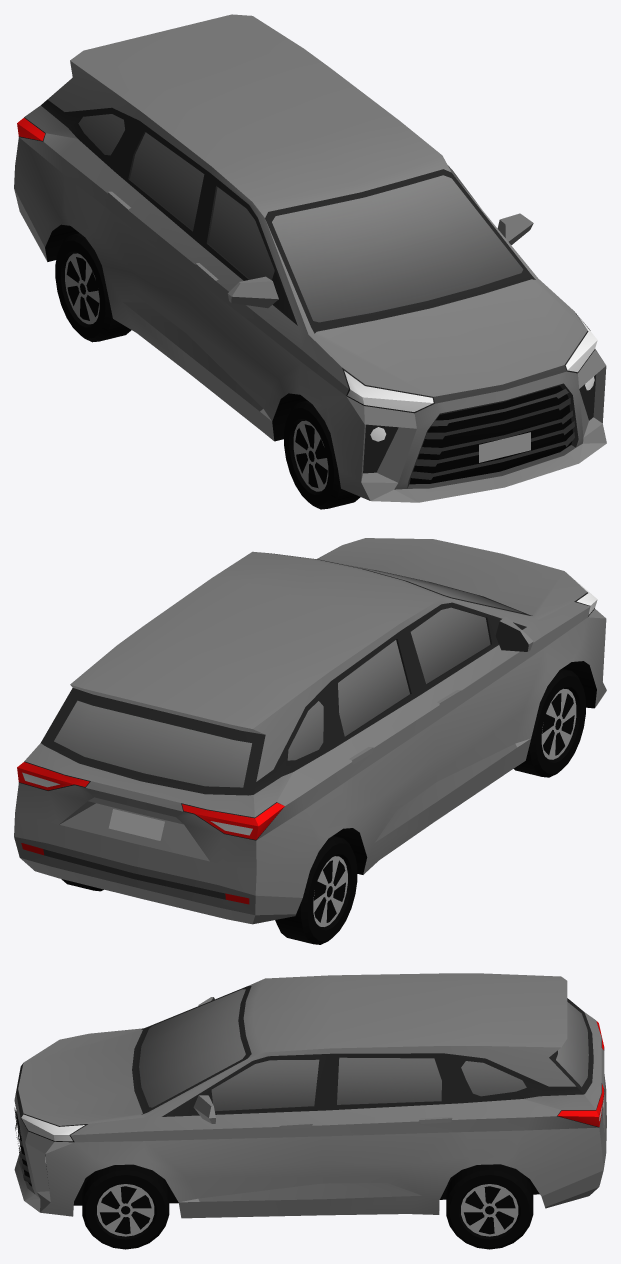
The model's file is lmpv1.glb.
The picture shows the model from 3 angles, top to bottom: view 1: azimuth 30°, elevation 25°; view 2: azimuth 150°, elevation 25°; view 3: azimuth 270°, elevation 25°; orthographic projection. The views are drawn at different scales.
Visible parts, largest first — view 1: Object_2; view 2: Object_2; view 3: Object_2.
Boxes of the visible parts, bbox=[...] form: Object_2: bbox=[14, 14, 606, 509]; Object_2: bbox=[14, 538, 606, 944]; Object_2: bbox=[14, 973, 606, 1249].
Size of the model in its own units: 2.06 by 1.59 by 4.39.
1 material, 1 textured.
